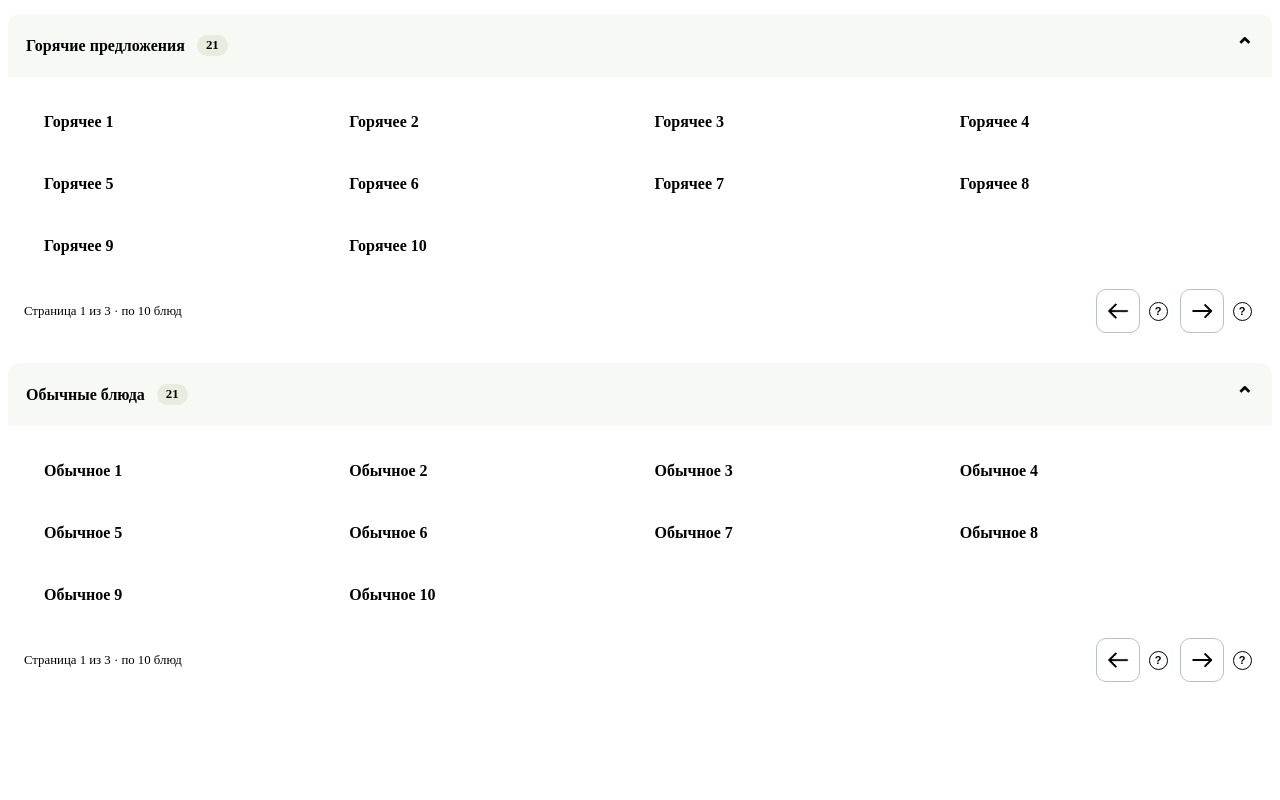
Test case: paginates sections independently with no more than ten dishes per page
Click the button named "Горячие предложения: следующая страница" at point(1202, 311), box [1180,289,1224,333]
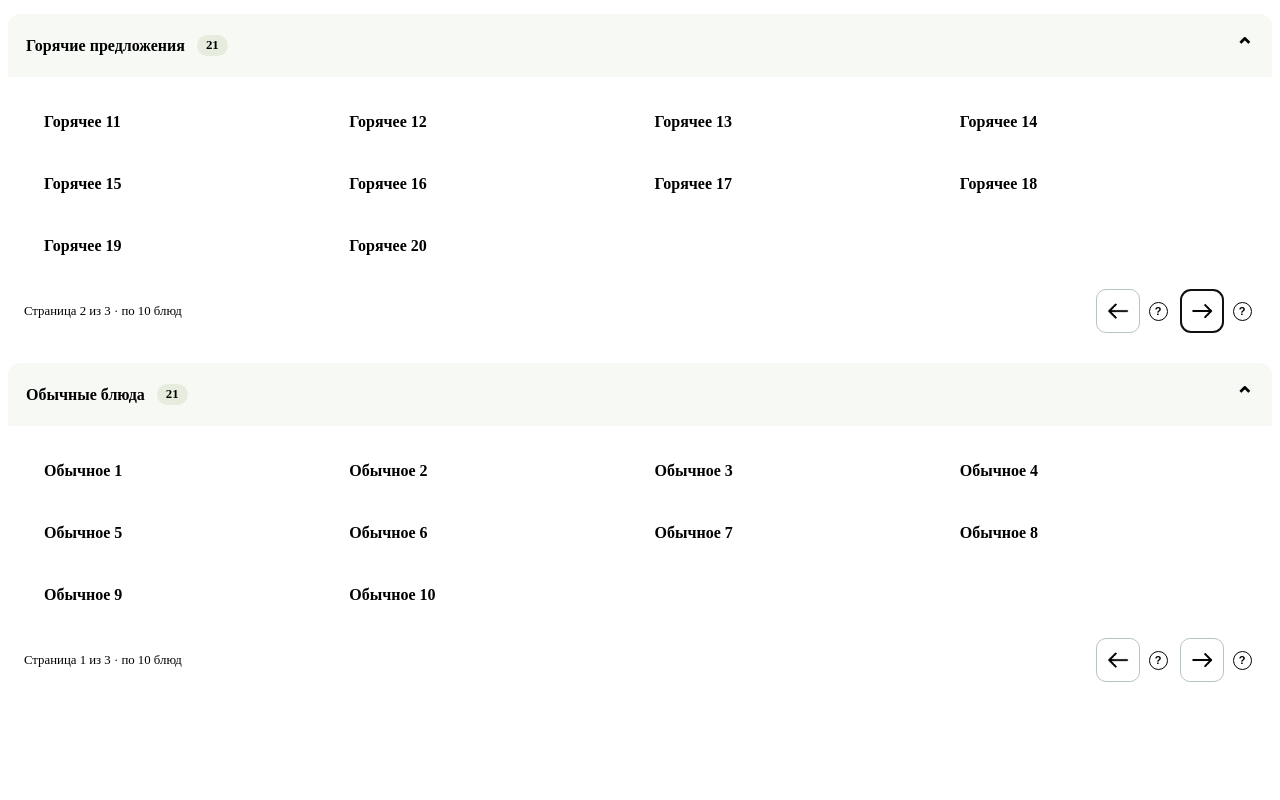
Expected: the text "Обычное 1" is shown, [44,462,122,480]
Now the text "Горячее 11" is shown, box [44,113,121,131]
Click the button named "Горячие предложения: следующая страница" at point(1202, 311), box [1180,289,1224,333]
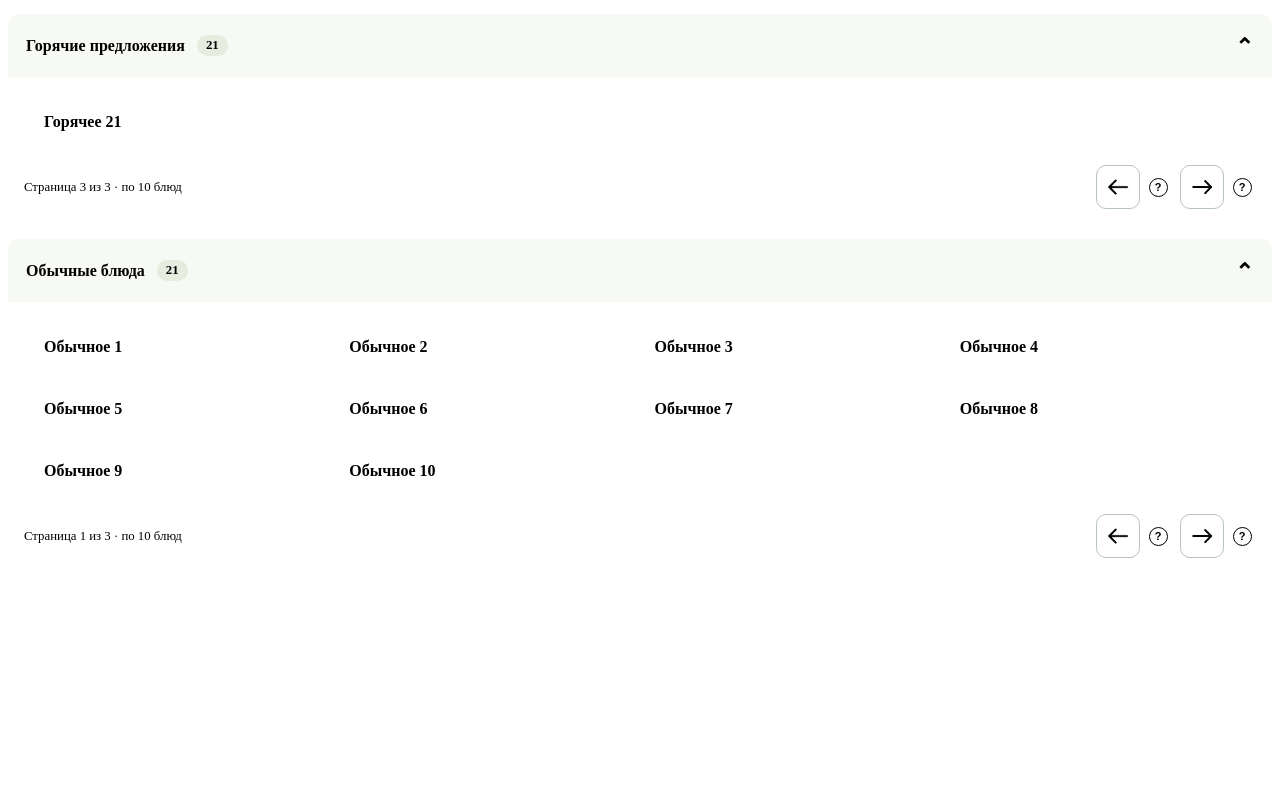
Now the text "Горячее 21" is shown once, box [44,113,122,131]
Now the button named "Горячие предложения: следующая страница" is disabled, box [1180,165,1224,209]
Click the button named "Обычные блюда: следующая страница" at point(1202, 536), box [1180,514,1224,558]
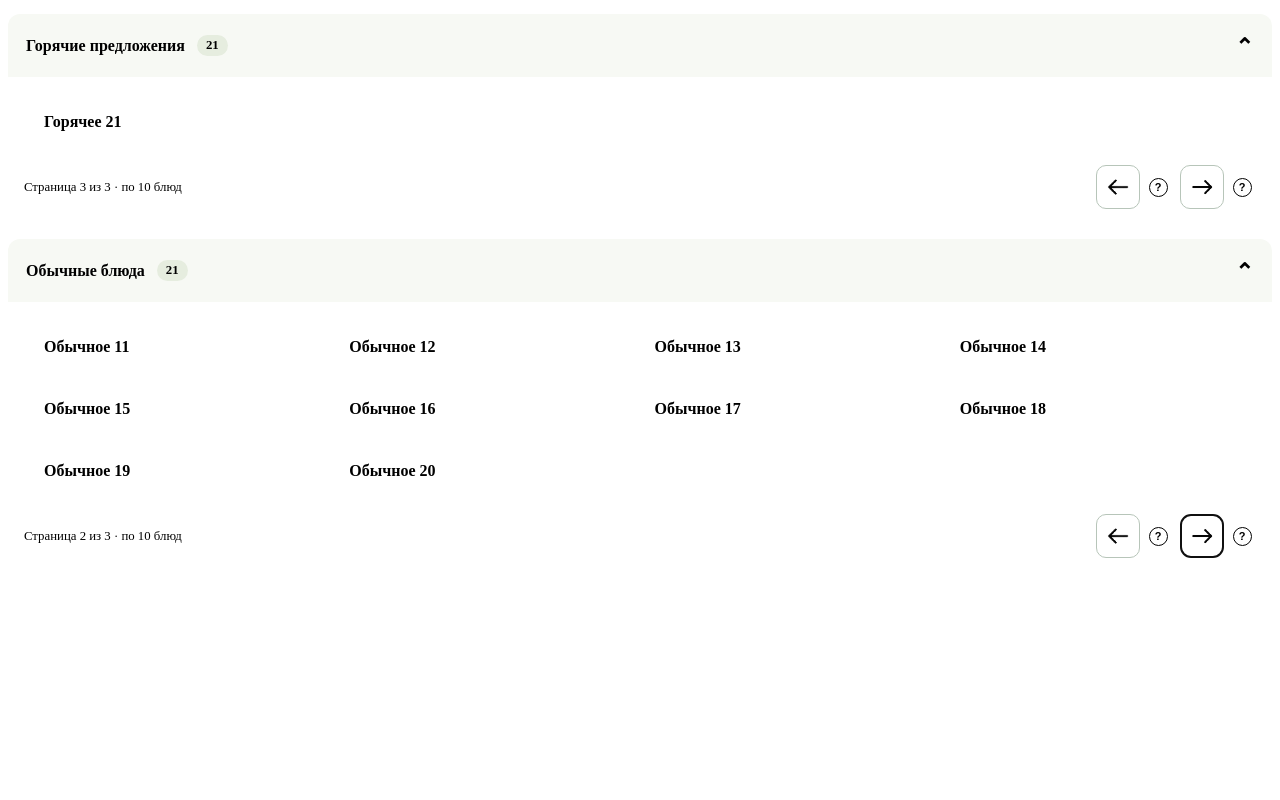
Now the text "Горячее 21" is shown, box [44,113,122,131]
Now the text "Обычное 11" is shown, box [44,338,129,356]
